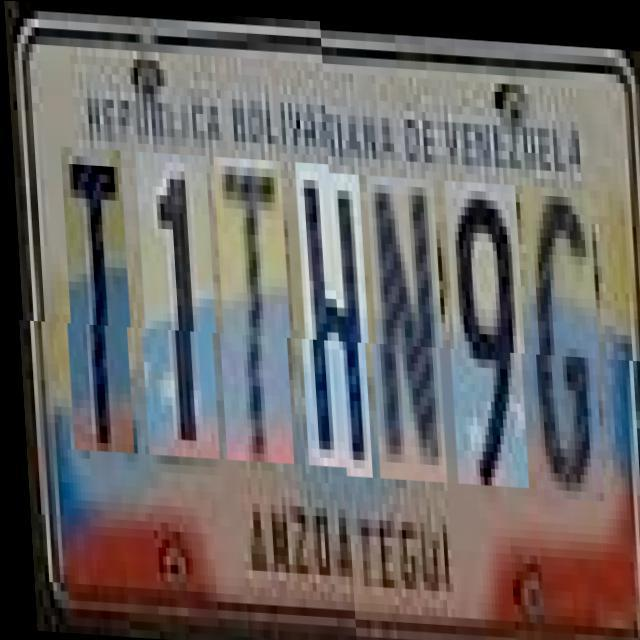1: (134, 158, 218, 465)
9: (442, 174, 527, 481)
G: (520, 178, 602, 494)
H: (293, 166, 371, 472)
N: (364, 170, 445, 477)
T: (212, 162, 292, 469), (59, 154, 133, 460)
